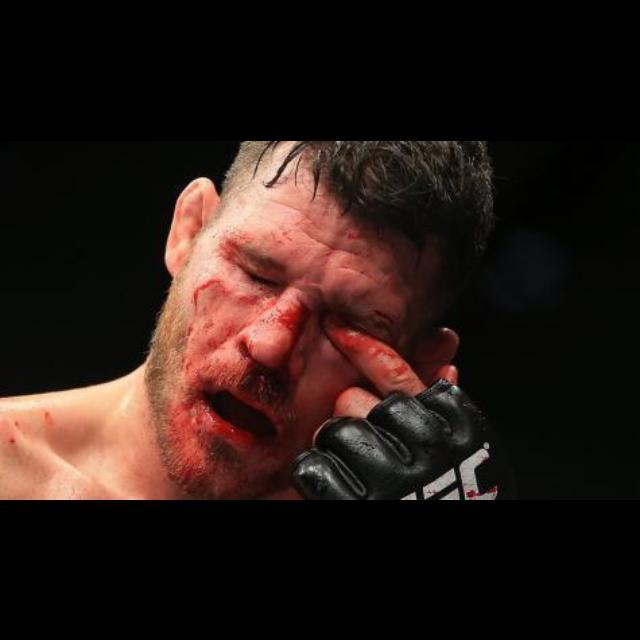blood: (162, 228, 413, 490), (0, 406, 57, 452), (345, 214, 368, 255)
